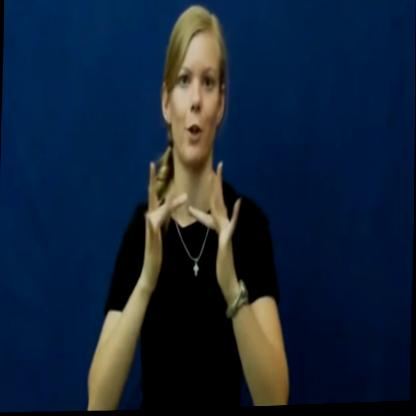Internet: (137, 154, 244, 317)
